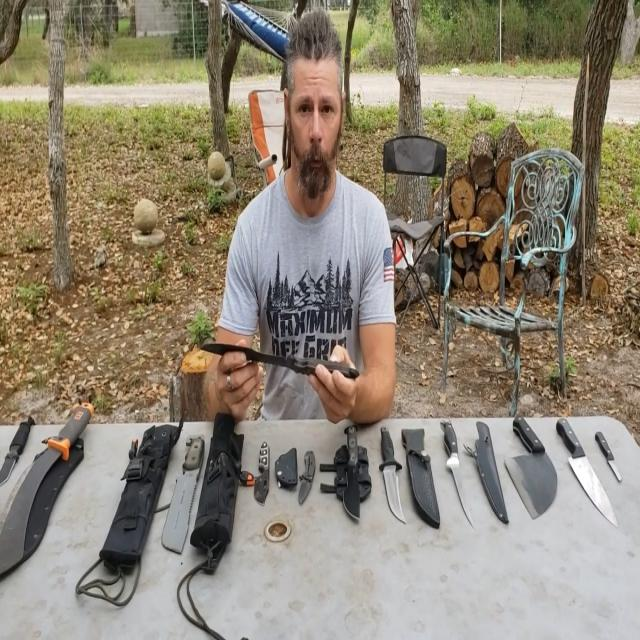knife: (0, 389, 110, 567), (547, 407, 622, 543), (205, 332, 361, 394), (497, 394, 566, 525), (155, 416, 216, 556), (434, 407, 482, 519), (373, 416, 413, 536), (241, 425, 283, 515), (341, 414, 367, 539), (593, 415, 628, 493), (0, 405, 29, 489), (290, 436, 322, 507)
